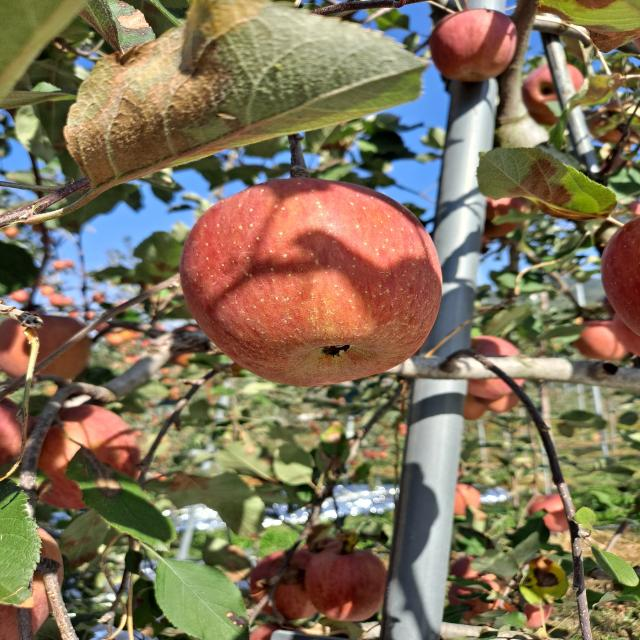fresh: (172, 165, 452, 389)
